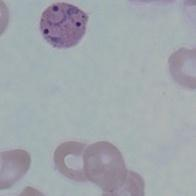Infected: (40, 2, 88, 49)
Uninfected: (84, 141, 127, 190), (55, 140, 96, 182)
